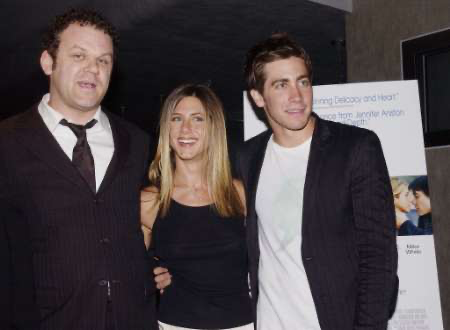Face: (57, 26, 111, 108), (261, 59, 316, 134), (161, 93, 214, 162), (410, 183, 435, 219), (395, 184, 414, 215)
